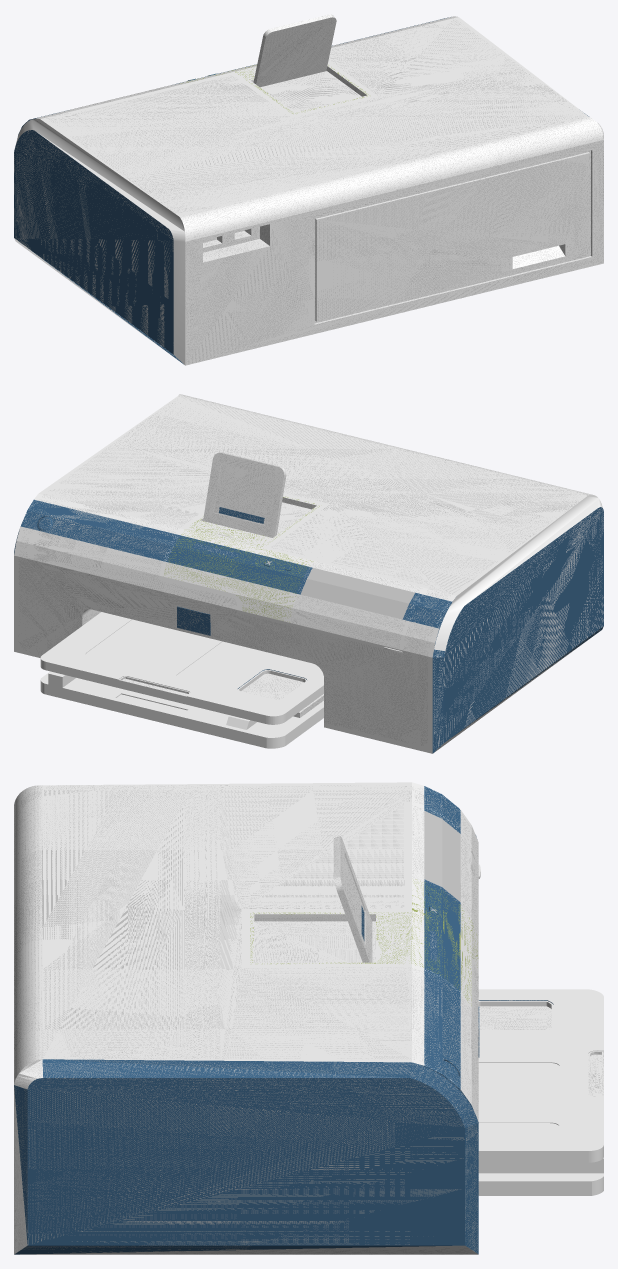
3 renders of one model, top to bottom at view 1: azimuth 30°, elevation 25°; view 2: azimuth 150°, elevation 25°; view 3: azimuth 270°, elevation 25°, orthographic. The views are drawn at different scales.
Visible parts, largest first — view 1: mesh1_mesh1-geometry; view 2: mesh1_mesh1-geometry; view 3: mesh1_mesh1-geometry.
Part boxes in pixels (bbox=[...]): mesh1_mesh1-geometry: bbox=[14, 14, 603, 365]; mesh1_mesh1-geometry: bbox=[14, 394, 603, 753]; mesh1_mesh1-geometry: bbox=[14, 782, 603, 1254].
Size of the model in its own units: 0.7166 by 0.3182 by 0.6207.
